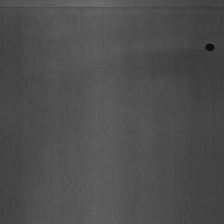punching_hole: (1, 1, 224, 20), (204, 40, 216, 54)
